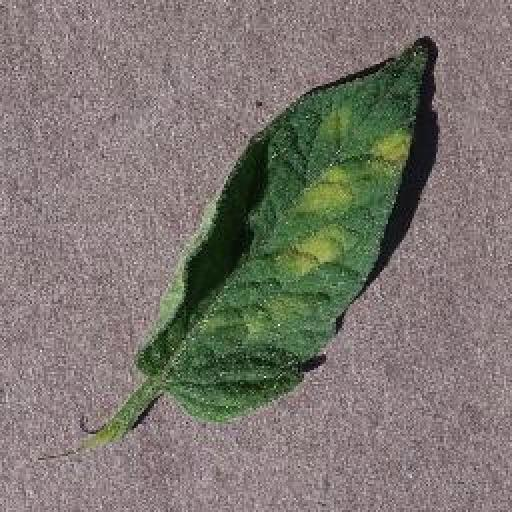disease_tomato: (132, 38, 430, 424)
